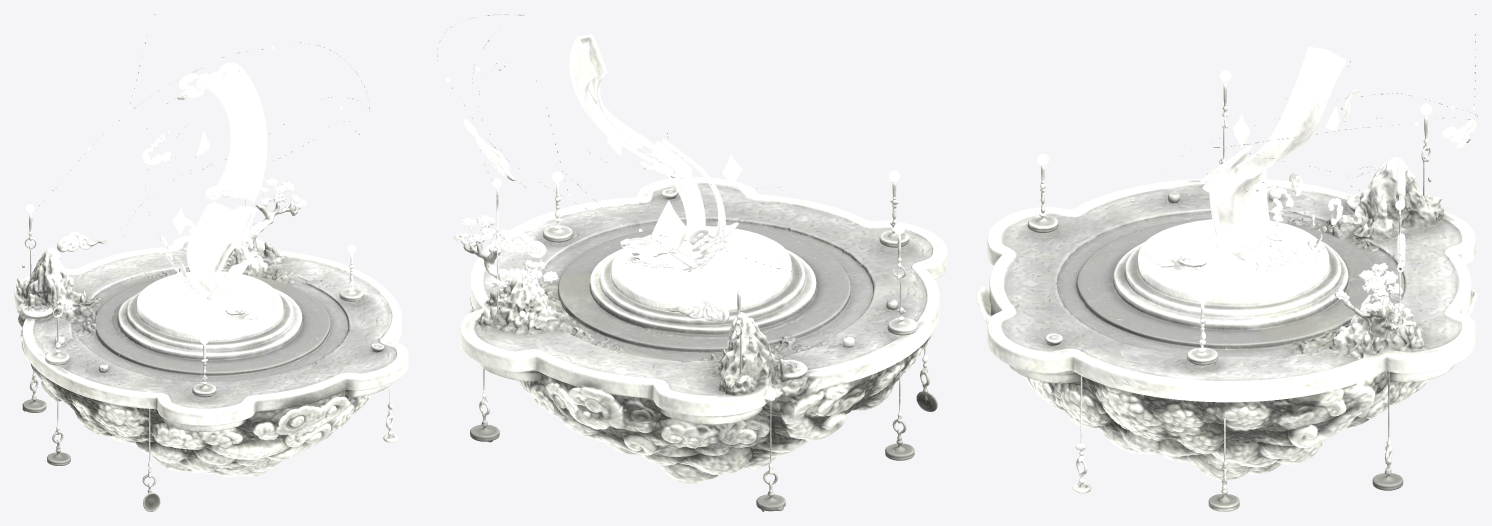
File: house16.glb
3 renders of one model, left to right at view 1: azimuth 30°, elevation 25°; view 2: azimuth 150°, elevation 25°; view 3: azimuth 270°, elevation 25°, orthographic. The views are drawn at different scales.
Size of the model in its own units: 0.8405 by 0.9047 by 0.8512.
Materials: 2 (2 with a texture image).
